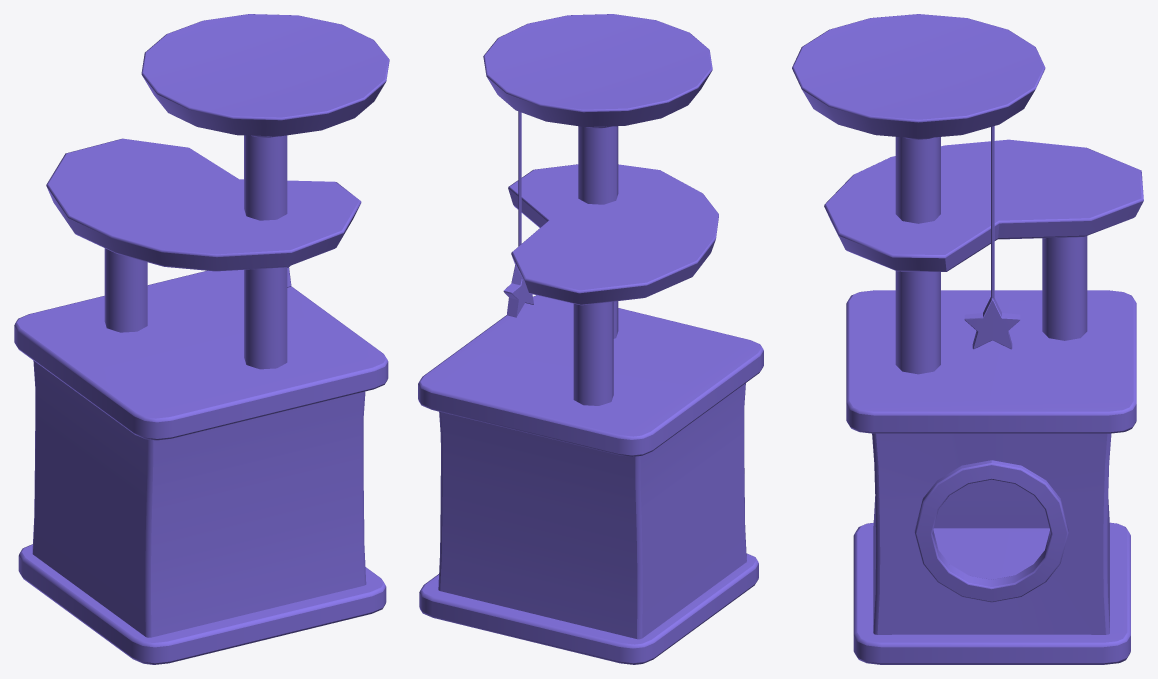
The model's file is SM_Goal_Post_Highpoly.gltf.
3 renders of one model, left to right at view 1: azimuth 30°, elevation 25°; view 2: azimuth 150°, elevation 25°; view 3: azimuth 270°, elevation 25°, orthographic. The views are drawn at different scales.
Visible parts, largest first — view 1: SM_Goal_Base.006; view 2: SM_Goal_Base.006; view 3: SM_Goal_Base.006.
Boxes of the visible parts, x1,y1,x2,y2 form: SM_Goal_Base.006: (14, 14, 389, 664); SM_Goal_Base.006: (418, 14, 763, 664); SM_Goal_Base.006: (792, 14, 1143, 664).
Bounding box in the file's own units: 5.57 × 11.07 × 6.4.
